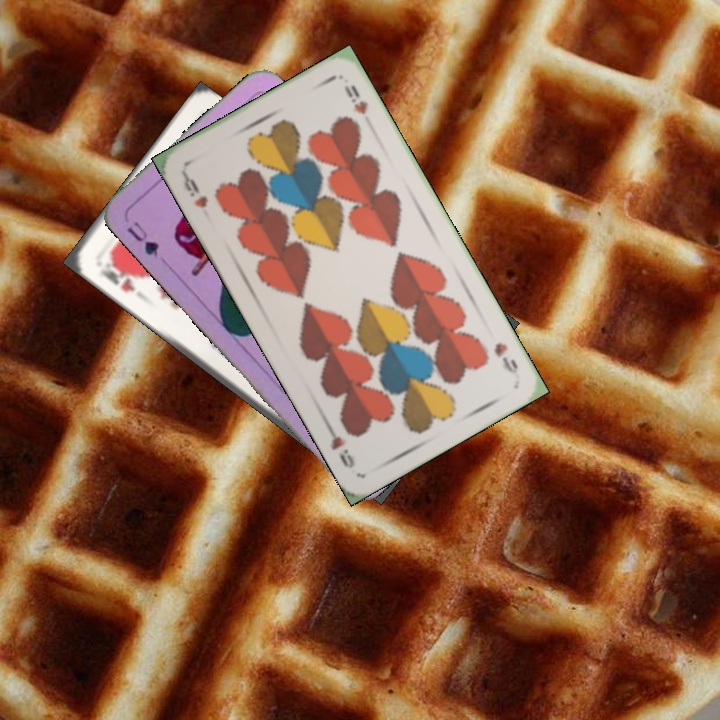GU: (123, 217, 162, 260)
H9: (178, 168, 211, 211), (490, 338, 521, 376)
HK: (96, 255, 140, 295)
